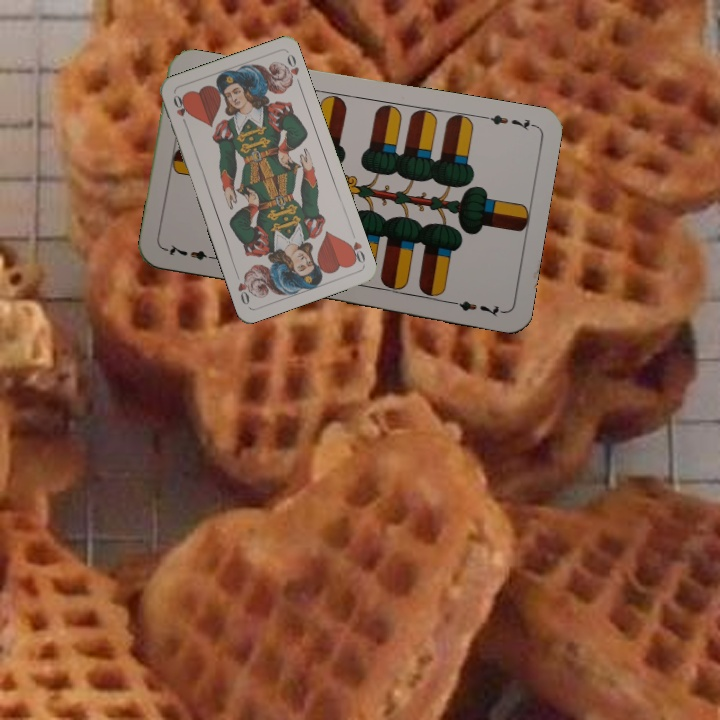E7: (478, 110, 537, 133), (162, 241, 221, 263)
HO: (343, 227, 368, 266), (169, 91, 190, 130)
